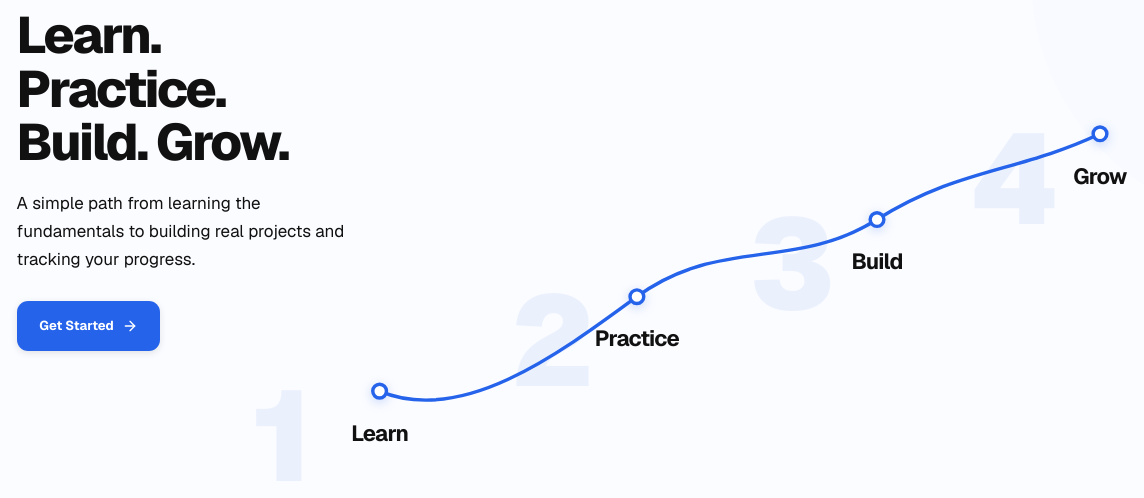
Test: public Y Coders landing page › keeps How It Works marker selection functional with reduced motion
(page scrolled)
Step 1. Click the button named "Build — show details" → (877, 220), box [857, 200, 897, 240]
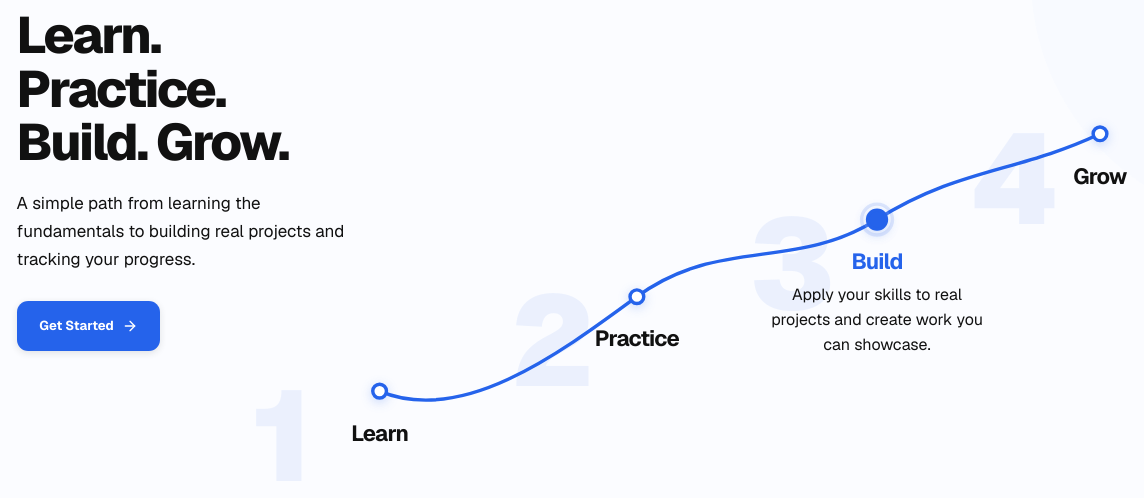
Now the number of elements with class "is-visible" is 1, box [757, 283, 997, 358]
Now the text with class "is-visible" shows "Apply your skills", box [771, 284, 983, 355]
